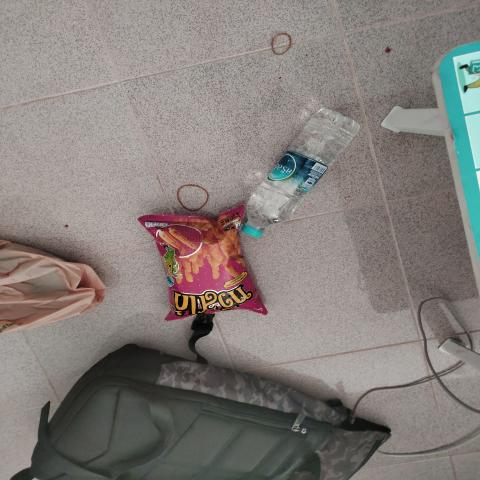crystal: (242, 128, 372, 240)
twisco: (140, 221, 252, 311)
